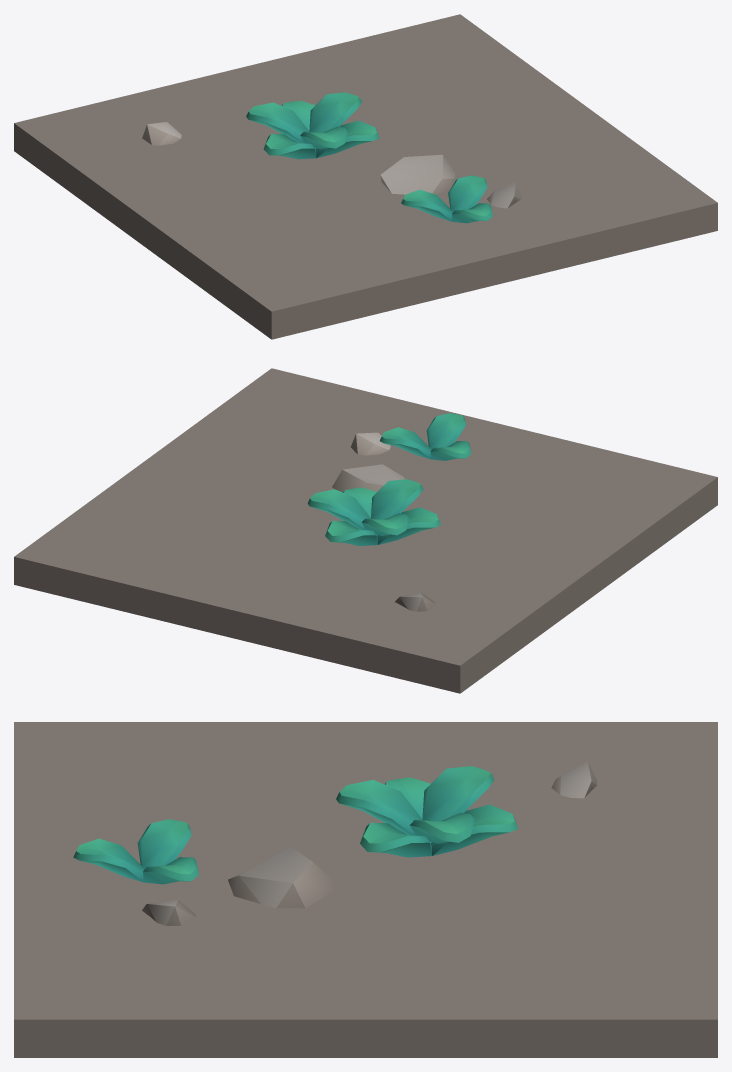
The model's file is floor_dirt_small_weeds.obj.
The picture shows the model from 3 angles, top to bottom: view 1: azimuth 30°, elevation 25°; view 2: azimuth 150°, elevation 25°; view 3: azimuth 270°, elevation 25°; orthographic projection. The views are drawn at different scales.
Visible parts, largest first — view 1: floor_dirt_small_weeds; view 2: floor_dirt_small_weeds; view 3: floor_dirt_small_weeds.
Boxes of the visible parts, x1,y1,x2,y2 form: floor_dirt_small_weeds: [14, 14, 717, 339]; floor_dirt_small_weeds: [14, 368, 717, 693]; floor_dirt_small_weeds: [14, 722, 717, 1057].
Bounding box in the file's own units: 2 × 0.2955 × 2.
1 material, 1 textured.
